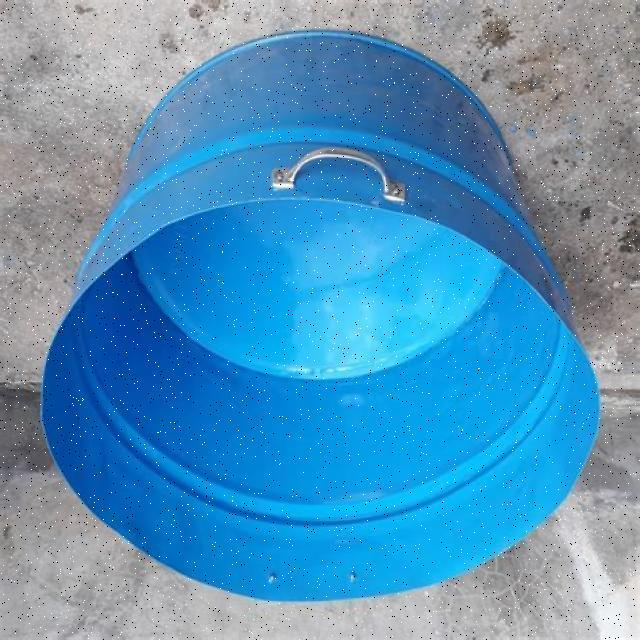garbage container: (35, 21, 632, 625)
